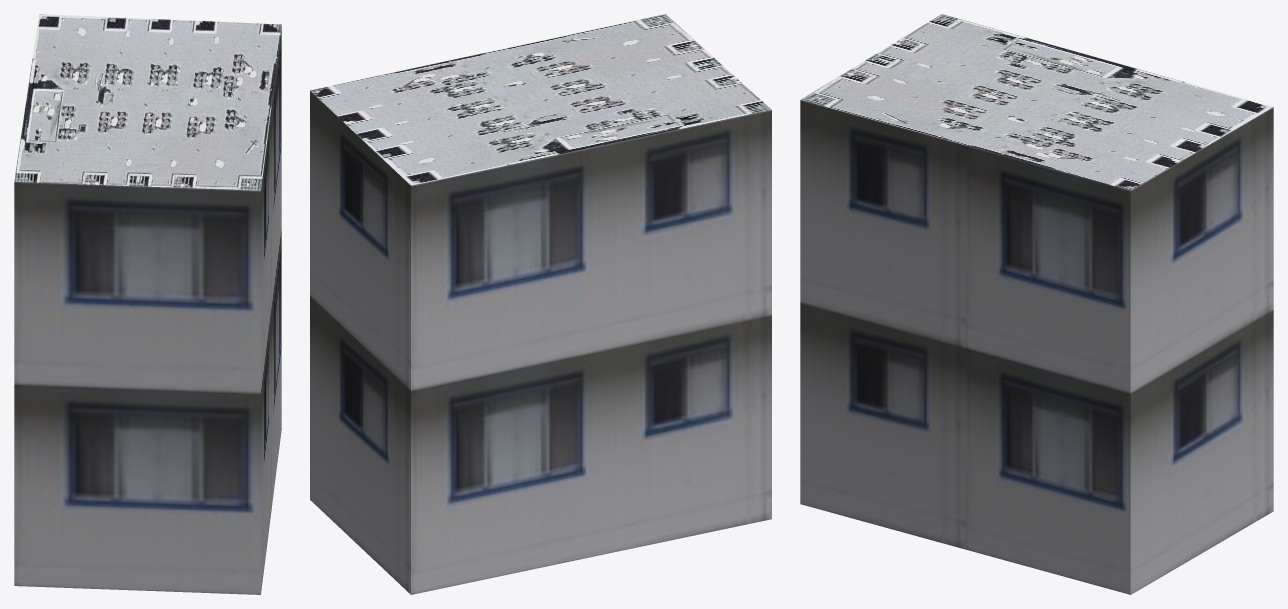
File: ResTex__2052.fbx
3 views of the same model, side by side, from view 1: azimuth 30°, elevation 25°; view 2: azimuth 150°, elevation 25°; view 3: azimuth 270°, elevation 25° (orthographic).
Visible parts, largest first — view 1: CityEngineMaterial_9_m, CityEngineMaterial_4_m; view 2: CityEngineMaterial_9_m, CityEngineMaterial_4_m; view 3: CityEngineMaterial_9_m, CityEngineMaterial_4_m.
Boxes of the visible parts, bbox=[...] form: CityEngineMaterial_9_m: bbox=[14, 27, 281, 594]; CityEngineMaterial_4_m: bbox=[14, 14, 281, 190]; CityEngineMaterial_9_m: bbox=[310, 91, 771, 594]; CityEngineMaterial_4_m: bbox=[310, 14, 771, 185]; CityEngineMaterial_9_m: bbox=[800, 100, 1273, 594]; CityEngineMaterial_4_m: bbox=[800, 14, 1273, 190].
Bounding box in the file's own units: 5.62 × 6 × 6.37.
2 materials, 2 textured.
